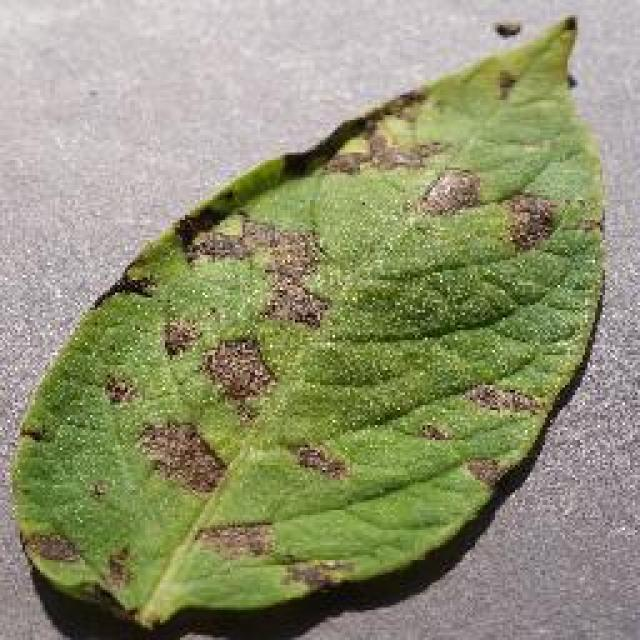early_blight: (5, 10, 610, 635)
